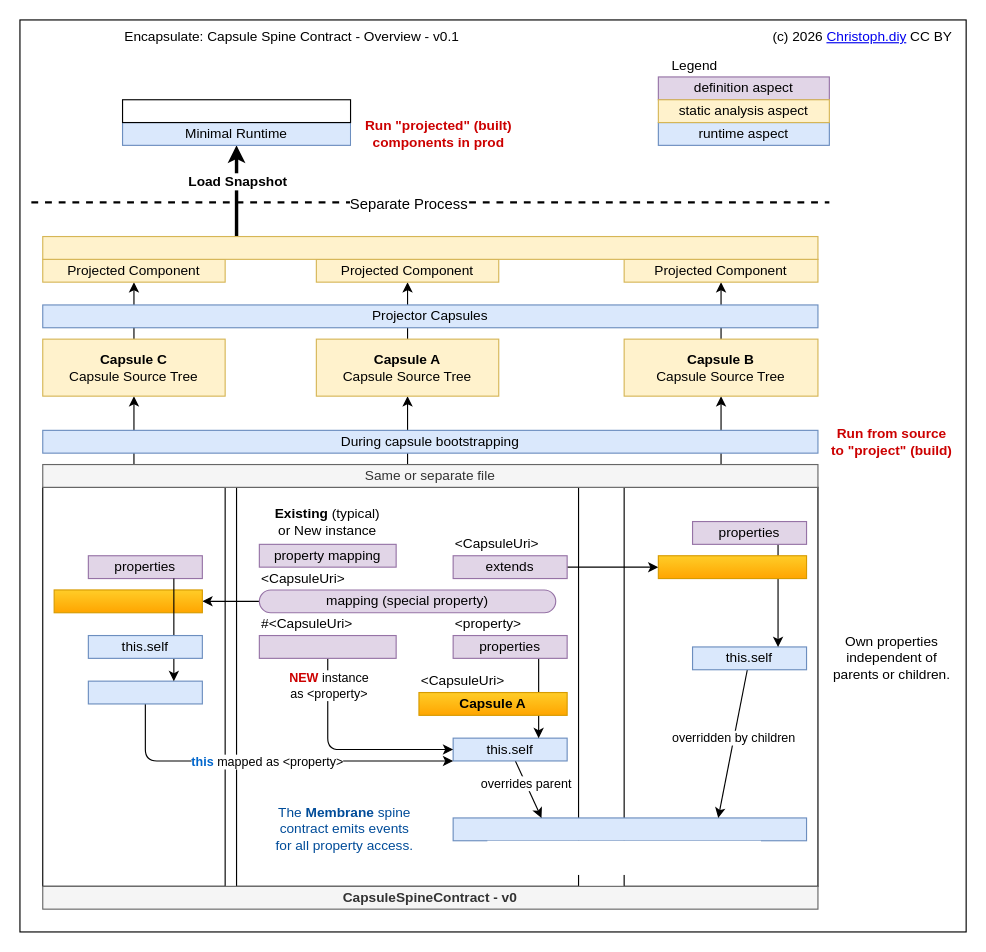
This 986x952 diagram has some shape labels left out. Each missing label, with the centre of its shape:
"Capsule B" belongs at pixel 732 567.
"Capsule C" belongs at pixel 127 601.
"property contract" belongs at pixel 327 646.
"Shared properties across extends stack." belongs at pixel 623 857.
"Snapshot" belongs at pixel 430 247.
"Static or Membrane Spine Contract" belongs at pixel 236 111.
"this" belongs at pixel 144 692.
"this (classic class extends)" belongs at pixel 629 829.
